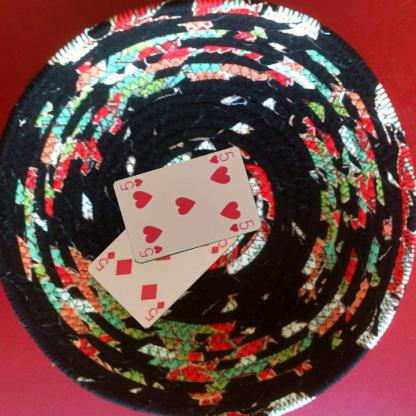5d: (142, 298, 166, 323)
5h: (206, 149, 235, 165), (136, 243, 164, 259)
